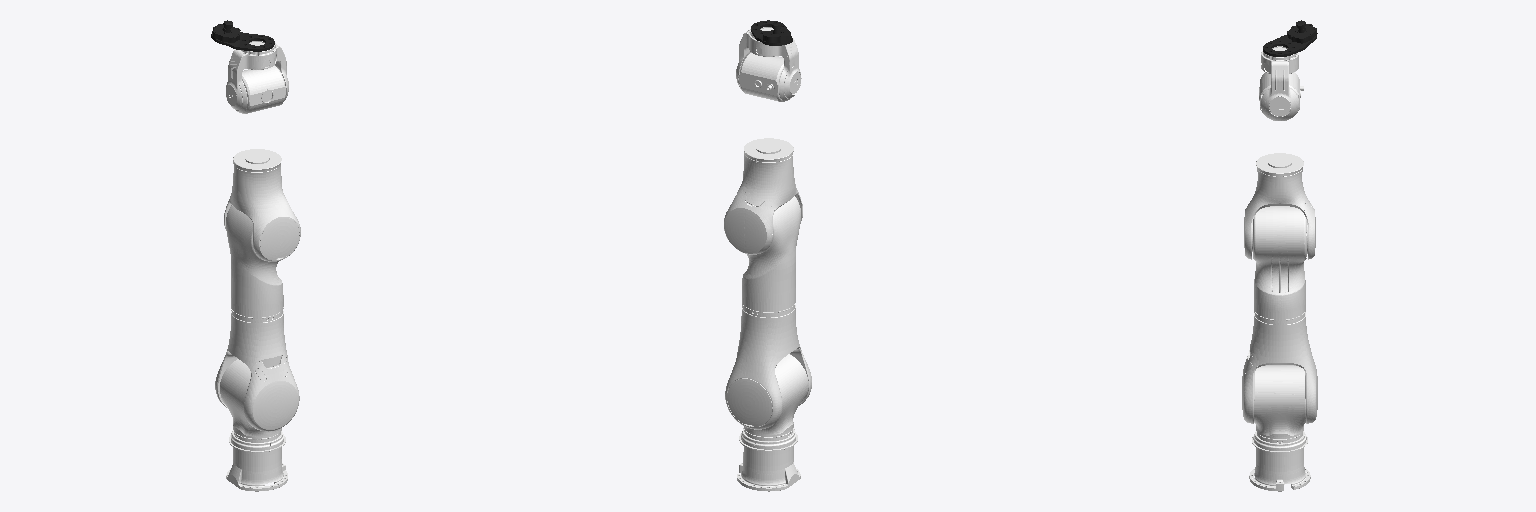
robot.urdf — AR5-5_08L-W4C6C11:
<?xml version='1.0' encoding='utf-8'?>
<robot xmlns:xacro="http://www.ros.org/wiki/xacro" name="AR5-5_08L-W4C6C11">
  <!-- Constants for robot dimensions -->
  <material name="black">
    <color rgba="0.0 0.0 0.0 1.0"/>
  </material>
  <material name="blue">
    <color rgba="0.0 0.0 0.8 1.0"/>
  </material>
  <material name="green">
    <color rgba="0.0 0.8 0.0 1.0"/>
  </material>
  <material name="grey">
    <color rgba="0.2 0.2 0.2 1.0"/>
  </material>
  <material name="orange">
    <color rgba="1.0 0.423529411765 0.0392156862745 1.0"/>
  </material>
  <material name="brown">
    <color rgba="0.870588235294 0.811764705882 0.764705882353 1.0"/>
  </material>
  <material name="red">
    <color rgba="0.8 0.0 0.0 1.0"/>
  </material>
  <material name="white">
    <color rgba="1.0 1.0 1.0 1.0"/>
  </material>
  <material name="Beige">
    <color rgba="1.0 0.784 0.5765 1.0"/>
  </material>
  <!-- Used for fixing robot to Gazebo 'base_link' -->
  <link name="world"/>
  <joint name="fixed" type="fixed">
    <parent link="world"/>
    <child link="AR5-5_08L-W4C6C11_base"/>
  </joint>
  <!--base-->
  <link name="AR5-5_08L-W4C6C11_base">
    <visual>
      <geometry>
        <mesh filename="package://AR5-5_08L-W4C6C11_description/meshes/AR5-5_08L-W4C6C11_base.stl" scale="0.001 0.001 0.001"/>
      </geometry>
      <origin rpy="0 0 0" xyz="0.0 0.0 0.0"/>
      <material name="white"/>
    </visual>
    <collision>
      <geometry>
        <mesh filename="package://AR5-5_08L-W4C6C11_description/meshes/AR5-5_08L-W4C6C11_base.stl" scale="0.001 0.001 0.001"/>
      </geometry>
      <origin rpy="0 0 0" xyz="0.0 0.0 0.0"/>
    </collision>
  </link>
  <joint name="AR5-5_08L-W4C6C11_joint_1" type="revolute">
    <parent link="AR5-5_08L-W4C6C11_base"/>
    <child link="AR5-5_08L-W4C6C11_link1"/>
    <limit effort="113" lower="-3.1067" upper="3.1067" velocity="3.05432619"/>
    <axis xyz="0 0 1"/>
    <origin rpy="0 0 0" xyz="0.0 0.0 0.0"/>
  </joint>
  <!--link 1-->
  <link name="AR5-5_08L-W4C6C11_link1">
    <visual>
      <geometry>
        <mesh filename="package://AR5-5_08L-W4C6C11_description/meshes/AR5-5_08L-W4C6C11_link1.stl" scale="0.001 0.001 0.001"/>
      </geometry>
      <origin rpy="0 0 0" xyz="0 0 0"/>
      <material name="white"/>
    </visual>
    <inertial>
      <mass value="2.166000"/>
      <inertia ixx="0.00332249" ixy="0.00000032" ixz="-0.00000048" iyy="0.00260904" iyz="-0.00001486" izz="0.00317691"/>
      <origin rpy="0 0 0" xyz="-0.000184 0.0015680000000000002 0.172804"/>
    </inertial>
    <collision>
      <geometry>
        <mesh filename="package://AR5-5_08L-W4C6C11_description/meshes/AR5-5_08L-W4C6C11_link1.stl" scale="0.001 0.001 0.001"/>
      </geometry>
      <origin rpy="0 0 0" xyz="0 0 0"/>
    </collision>
  </link>
  <joint name="AR5-5_08L-W4C6C11_joint_2" type="revolute">
    <parent link="AR5-5_08L-W4C6C11_link1"/>
    <child link="AR5-5_08L-W4C6C11_link2"/>
    <limit effort="113" lower="-2.0944" upper="2.0944" velocity="3.05432619"/>
    <axis xyz="0 1 0"/>
    <origin rpy="0 0 0" xyz="0.0 0.0 0.1745"/>
  </joint>
  <!--link 2-->
  <link name="AR5-5_08L-W4C6C11_link2">
    <visual>
      <geometry>
        <mesh filename="package://AR5-5_08L-W4C6C11_description/meshes/AR5-5_08L-W4C6C11_link2.stl" scale="0.001 0.001 0.001"/>
      </geometry>
      <origin rpy="0 0 0" xyz="0 0 0.0"/>
      <material name="white"/>
    </visual>
    <inertial>
      <mass value="1.903000"/>
      <inertia ixx="0.00779803" ixy="0.00000248" ixz="-0.00000226" iyy="0.00674819" iyz="-0.00049283" izz="0.00305507"/>
      <origin rpy="0 0 0" xyz="-1.7e-05 0.001795 0.10668899999999999"/>
    </inertial>
    <collision>
      <geometry>
        <mesh filename="package://AR5-5_08L-W4C6C11_description/meshes/AR5-5_08L-W4C6C11_link2.stl" scale="0.001 0.001 0.001"/>
      </geometry>
      <origin rpy="0 0 0" xyz="0 0 0.0"/>
    </collision>
  </link>
  <joint name="AR5-5_08L-W4C6C11_joint_3" type="revolute">
    <parent link="AR5-5_08L-W4C6C11_link2"/>
    <child link="AR5-5_08L-W4C6C11_link3"/>
    <limit effort="70" lower="-3.1067" upper="3.1067" velocity="4.71238898"/>
    <axis xyz="0 0 1"/>
    <origin rpy="0 0 0" xyz="0.0 0.0 0.332"/>
  </joint>
  <!--link 3-->
  <link name="AR5-5_08L-W4C6C11_link3">
    <visual>
      <geometry>
        <mesh filename="package://AR5-5_08L-W4C6C11_description/meshes/AR5-5_08L-W4C6C11_link3.stl" scale="0.001 0.001 0.001"/>
      </geometry>
      <origin rpy="0 0 0" xyz="0 0 0"/>
      <material name="white"/>
    </visual>
    <inertial>
      <mass value="1.845000"/>
      <inertia ixx="0.00641285" ixy="0.00000909" ixz="0.00034765" iyy="0.00591595" iyz="-0.00002314" izz="0.00276583"/>
      <origin rpy="0 0 0" xyz="0.008227 -0.0012729999999999998 -0.020611"/>
    </inertial>
    <collision>
      <geometry>
        <mesh filename="package://AR5-5_08L-W4C6C11_description/meshes/AR5-5_08L-W4C6C11_link3.stl" scale="0.001 0.001 0.001"/>
      </geometry>
      <origin rpy="0 0 0" xyz="0 0 0"/>
    </collision>
  </link>
  <joint name="AR5-5_08L-W4C6C11_joint_4" type="revolute">
    <parent link="AR5-5_08L-W4C6C11_link3"/>
    <child link="AR5-5_08L-W4C6C11_link4"/>
    <limit effort="70" lower="-1.0472" upper="2.5307" velocity="5.23598776"/>
    <!--     lower="-1.0472" upper="2.5307" -->
    <axis xyz="0 1 0"/>
    <!--     <origin rpy="0 0 0" xyz="0.0105 0.0 0.0"/> -->
    <origin rpy="0 0 0" xyz="0.0105 0.0 0.0"/>
  </joint>
  <!--link 4-->
  <link name="AR5-5_08L-W4C6C11_link4">
    <visual>
      <geometry>
        <mesh filename="package://AR5-5_08L-W4C6C11_description/meshes/AR5-5_08L-W4C6C11_link4.stl" scale=".001 0.001 0.001"/>
      </geometry>
      <origin rpy="0 0 0" xyz="0.0 0.0 0.0"/>
      <material name="white"/>
    </visual>
    <inertial>
      <mass value="1.037000"/>
      <inertia ixx="0.00294639" ixy="-0.00002418" ixz="-0.00012203" iyy="0.00244447" iyz="0.00022029" izz="0.00140961"/>
      <origin rpy="0 0 0" xyz="-0.009242 -0.0021720000000000003 0.084042"/>
    </inertial>
    <collision>
      <geometry>
        <mesh filename="package://AR5-5_08L-W4C6C11_description/meshes/AR5-5_08L-W4C6C11_link4.stl" scale="0.001 0.001 0.001"/>
      </geometry>
      <origin rpy="0 0 0" xyz="0.0 0.0 0.0"/>
    </collision>
  </link>
  <joint name="AR5-5_08L-W4C6C11_joint_5" type="revolute">
    <parent link="AR5-5_08L-W4C6C11_link4"/>
    <child link="AR5-5_08L-W4C6C11_link5"/>
    <limit effort="19" lower="-3.1067" upper="3.1067" velocity="4.18879020"/>
    <axis xyz="0 0 1"/>
    <origin rpy="0 0 0" xyz="-0.0105 0.0 0.278"/>
  </joint>
  <!--link 5-->
  <link name="AR5-5_08L-W4C6C11_link5">
    <visual>
      <geometry>
        <mesh filename="package://AR5-5_08L-W4C6C11_description/meshes/AR5-5_08L-W4C6C11_link5.stl" scale="0.001 0.001 0.001"/>
      </geometry>
      <origin rpy="0 0 0" xyz="0 0 0"/>
      <material name="white"/>
    </visual>
    <inertial>
      <mass value="1.279000"/>
      <inertia ixx="0.00241349" ixy="-0.00003807" ixz="-0.00004536" iyy="0.00200246" iyz="0.00006623" izz="0.00158693"/>
      <origin rpy="0 0 0" xyz="-0.000756 0.000723 -0.086764"/>
    </inertial>
    <collision>
      <geometry>
        <mesh filename="package://AR5-5_08L-W4C6C11_description/meshes/AR5-5_08L-W4C6C11_link5.stl" scale="0.001 0.001 0.001"/>
      </geometry>
      <origin rpy="0 0 0" xyz="0 0 0"/>
    </collision>
  </link>
  <joint name="AR5-5_08L-W4C6C11_joint_6" type="revolute">
    <parent link="AR5-5_08L-W4C6C11_link5"/>
    <child link="AR5-5_08L-W4C6C11_link6"/>
    <limit effort="19" lower="-1.0472" upper="1.0472" velocity="4.18879020"/>
    <axis xyz="0 1 0"/>
    <origin rpy="0.0 0.0 0" xyz="0.0 0.0 0.0"/>
  </joint>
  <!--link 6-->
  <link name="AR5-5_08L-W4C6C11_link6">
    <visual>
      <geometry>
        <mesh filename="package://AR5-5_08L-W4C6C11_description/meshes/AR5-5_08L-W4C6C11_link6.stl" scale="0.001 0.001 0.001"/>
      </geometry>
      <origin rpy="0 0 0" xyz="0 0 0"/>
      <material name="white"/>
    </visual>
    <inertial>
      <mass value="0.906000"/>
      <inertia ixx="0.00061429" ixy="-0.00000088" ixz="0.00000104" iyy="0.00074781" iyz="-0.00000047" izz="0.00075897"/>
      <origin rpy="0 0 0" xyz="-0.005104 0.000251 5.6e-05"/>
    </inertial>
    <collision>
      <geometry>
        <mesh filename="package://AR5-5_08L-W4C6C11_description/meshes/AR5-5_08L-W4C6C11_link6.stl" scale="0.001 0.001 0.001"/>
      </geometry>
      <origin rpy="0 0 0" xyz="0 0 0"/>
    </collision>
  </link>
  <joint name="AR5-5_08L-W4C6C11_joint_7" type="revolute">
    <parent link="AR5-5_08L-W4C6C11_link6"/>
    <child link="AR5-5_08L-W4C6C11_link7"/>
    <limit effort="19" lower="-1.0472" upper="1.0472" velocity="4.18879020"/>
    <axis xyz="1 0 0"/>
    <origin rpy="0.0 0.0 0" xyz="0.0 0.0 0.0"/>
  </joint>
  <!--link 7-->
  <link name="AR5-5_08L-W4C6C11_link7">
    <visual>
      <geometry>
        <mesh filename="package://AR5-5_08L-W4C6C11_description/meshes/AR5-5_08L-W4C6C11_link7.stl" scale="0.001 0.001 0.001"/>
      </geometry>
      <origin rpy="0 0 0" xyz="0.0 0.0 0.0"/>
      <material name="white"/>
    </visual>
    <inertial>
      <mass value="0.330000"/>
      <inertia ixx="0.00046062" ixy="0.00000269" ixz="0.00003859" iyy="0.00068652" iyz="-0.00000095" izz="0.00043943"/>
      <origin rpy="0 0 0" xyz="-0.001562 -0.000366 0.05392"/>
    </inertial>
    <collision>
      <geometry>
        <mesh filename="package://AR5-5_08L-W4C6C11_description/meshes/AR5-5_08L-W4C6C11_link7.stl" scale="0.001 0.001 0.001"/>
      </geometry>
      <origin rpy="0 0 0" xyz="0.0 0.0 0.0"/>
    </collision>
  </link>
  <link name="AR5-5_08L-W4C6C11_flan_link">
    <visual>
      <geometry>
        <mesh filename="../meshes/left/wrist_fisheye_flange_assembly.stl" scale="0.001 0.001 0.001"/>
      </geometry>
      <origin rpy="0 0 -2.3561944902" xyz="0 0 0"/>
      <material name="grey"/>
    </visual>
    <collision>
      <geometry>
        <mesh filename="../meshes/left/wrist_fisheye_flange_assembly.stl" scale="0.001 0.001 0.001"/>
      </geometry>
      <origin rpy="0 0 -2.3561944902" xyz="0 0 0"/>
    </collision>
    <inertial>
      <origin rpy="0 0 0" xyz="0 0 0"/>
      <mass value="0"/>
      <inertia ixx="0" ixy="0" ixz="0" iyy="0" iyz="0" izz="0"/>
    </inertial>
  </link>
  <joint name="AR5-5_08L-W4C6C11_flan_joint" type="fixed">
    <parent link="AR5-5_08L-W4C6C11_link7"/>
    <child link="AR5-5_08L-W4C6C11_flan_link"/>
    <origin rpy="0 0 0" xyz="0 0 0.090000000000"/>
  </joint>
  <link name="AR5-5_08L-W4C6C11_wrist_fisheye_frame">
    <inertial>
      <origin rpy="0 0 0" xyz="0 0 0"/>
      <mass value="0"/>
      <inertia ixx="0" ixy="0" ixz="0" iyy="0" iyz="0" izz="0"/>
    </inertial>
  </link>
  <joint name="AR5-5_08L-W4C6C11_wrist_fisheye_joint" type="fixed">
    <parent link="AR5-5_08L-W4C6C11_flan_link"/>
    <child link="AR5-5_08L-W4C6C11_wrist_fisheye_frame"/>
    <origin rpy="0.1654200552 0 -2.3561944902" xyz="-0.04184658 0.04184658 0.00988"/>
  </joint>
</robot>

--- Render facts (derived) ---
3 views of the same robot in one strip: view 1: azimuth 30°, elevation 25°; view 2: azimuth 150°, elevation 25°; view 3: azimuth 270°, elevation 25° (orthographic).
Robot: AR5-5_08L-W4C6C11 — 11 links, 10 joints (7 revolute, 3 fixed); root link world; default pose: every joint at zero.
Visible links, largest first — view 1: AR5-5_08L-W4C6C11_link2, AR5-5_08L-W4C6C11_link4, AR5-5_08L-W4C6C11_link3, AR5-5_08L-W4C6C11_base, AR5-5_08L-W4C6C11_link7, AR5-5_08L-W4C6C11_link1, AR5-5_08L-W4C6C11_link6, AR5-5_08L-W4C6C11_flan_link; view 2: AR5-5_08L-W4C6C11_link2, AR5-5_08L-W4C6C11_link4, AR5-5_08L-W4C6C11_link3, AR5-5_08L-W4C6C11_base, AR5-5_08L-W4C6C11_link1, AR5-5_08L-W4C6C11_link7, AR5-5_08L-W4C6C11_link6, AR5-5_08L-W4C6C11_flan_link; view 3: AR5-5_08L-W4C6C11_link3, AR5-5_08L-W4C6C11_link2, AR5-5_08L-W4C6C11_link1, AR5-5_08L-W4C6C11_link4, AR5-5_08L-W4C6C11_base, AR5-5_08L-W4C6C11_link7, AR5-5_08L-W4C6C11_flan_link.
Link boxes in pixels (box(x1,y1,x2,y2)): AR5-5_08L-W4C6C11_link2: box(215, 307, 299, 431); AR5-5_08L-W4C6C11_link4: box(224, 149, 300, 261); AR5-5_08L-W4C6C11_link3: box(226, 205, 283, 317); AR5-5_08L-W4C6C11_base: box(226, 430, 287, 491); AR5-5_08L-W4C6C11_link7: box(226, 41, 288, 112); AR5-5_08L-W4C6C11_link1: box(220, 359, 281, 438); AR5-5_08L-W4C6C11_link6: box(242, 65, 285, 113); AR5-5_08L-W4C6C11_flan_link: box(211, 20, 274, 51); AR5-5_08L-W4C6C11_link2: box(725, 304, 811, 429); AR5-5_08L-W4C6C11_link4: box(724, 138, 802, 254); AR5-5_08L-W4C6C11_link3: box(742, 196, 800, 311); AR5-5_08L-W4C6C11_base: box(737, 428, 800, 491); AR5-5_08L-W4C6C11_link1: box(744, 354, 808, 436); AR5-5_08L-W4C6C11_link7: box(736, 27, 801, 100); AR5-5_08L-W4C6C11_link6: box(739, 53, 784, 101); AR5-5_08L-W4C6C11_flan_link: box(751, 20, 792, 45); AR5-5_08L-W4C6C11_link3: box(1253, 206, 1307, 319); AR5-5_08L-W4C6C11_link2: box(1242, 311, 1317, 423); AR5-5_08L-W4C6C11_link1: box(1254, 365, 1305, 438); AR5-5_08L-W4C6C11_link4: box(1244, 153, 1315, 259); AR5-5_08L-W4C6C11_base: box(1249, 431, 1310, 491); AR5-5_08L-W4C6C11_link7: box(1261, 46, 1298, 120); AR5-5_08L-W4C6C11_flan_link: box(1263, 20, 1317, 56).
Size in the robot's own frame: 0.1313 by 0.1417 by 0.9131 metres.
8 mesh visuals loaded from 9 distinct referenced files (8 binary STL); not drawn: 1 (reference not matched to a file when rendering).
